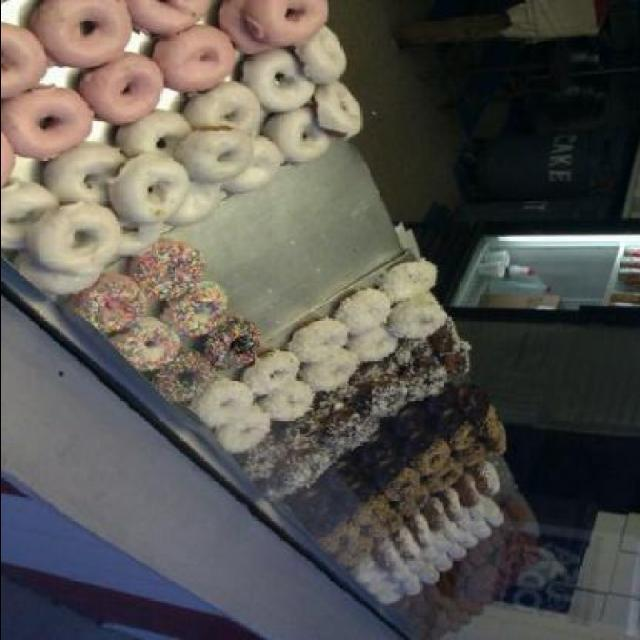Donuts: (0, 0, 539, 639)
